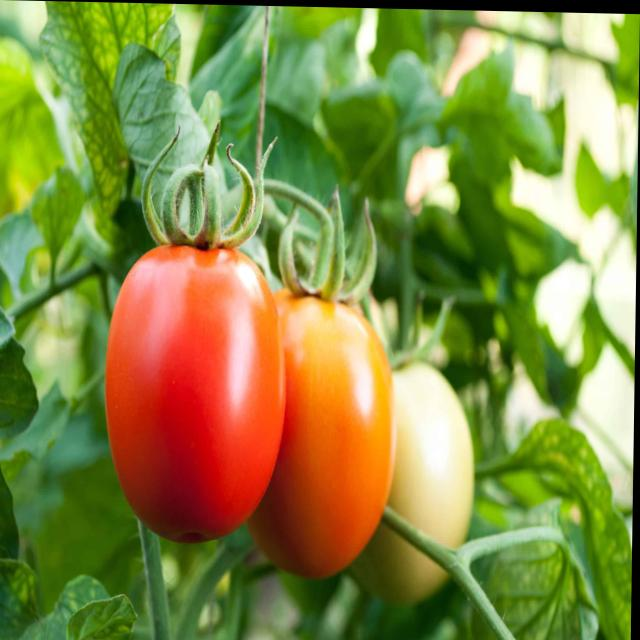kirmizi: (96, 224, 284, 551)
sari: (288, 280, 394, 572)
